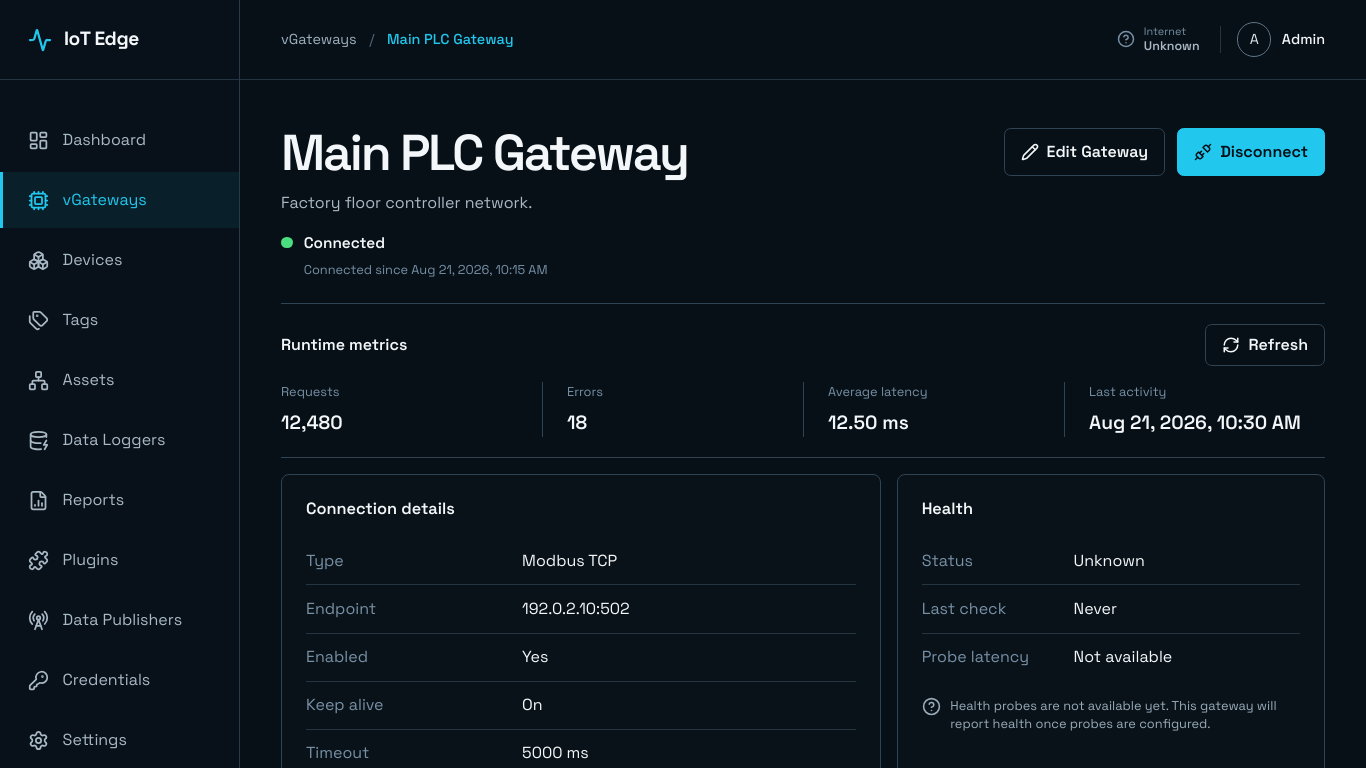
Scenario: VGatewayDetailPage › refreshes runtime metrics without reloading gateway metadata
The width and height of the screenshot is (1366, 768).
Expected: the text "12,480" is shown, 281,410 -> 343,435
Click the button "Refresh": (1265, 345) 1205,324 -> 1325,366
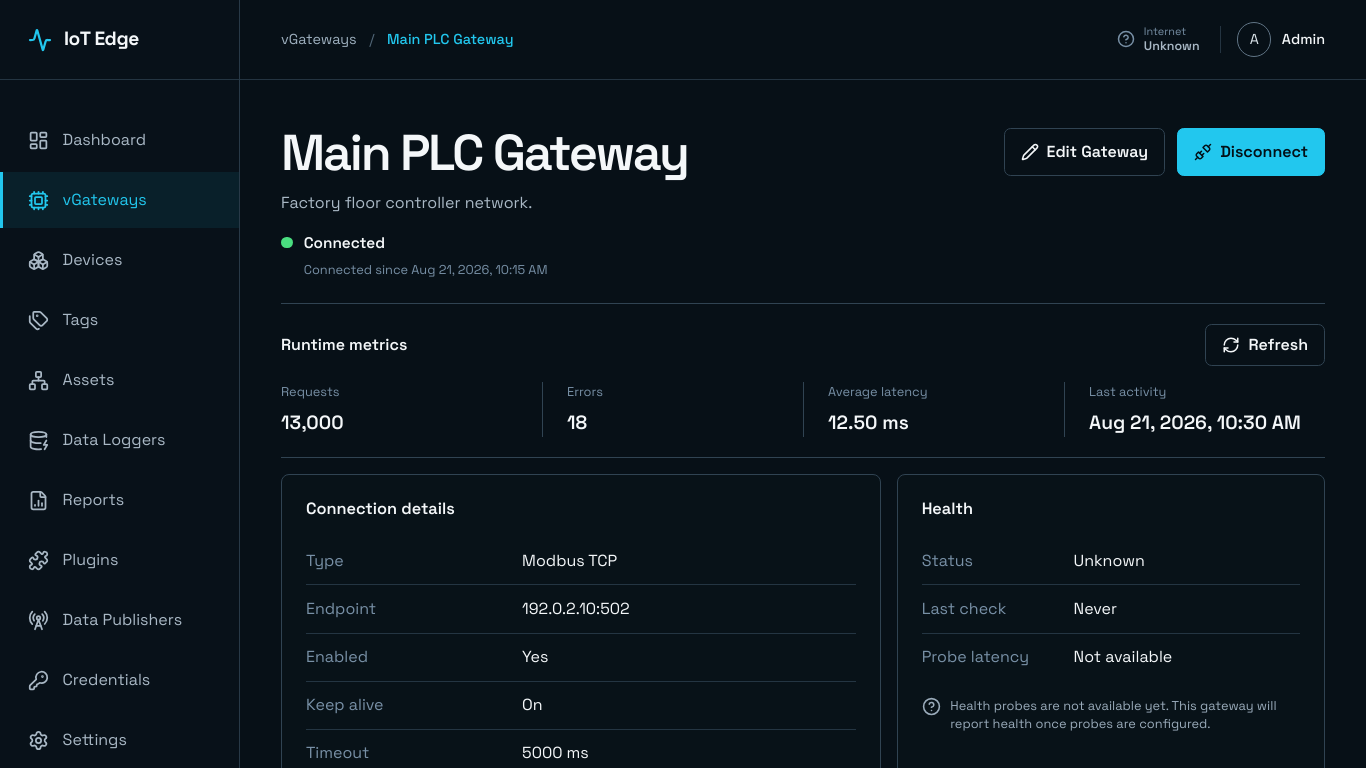
Result: the text "13,000" is shown at 281,410 -> 344,435
